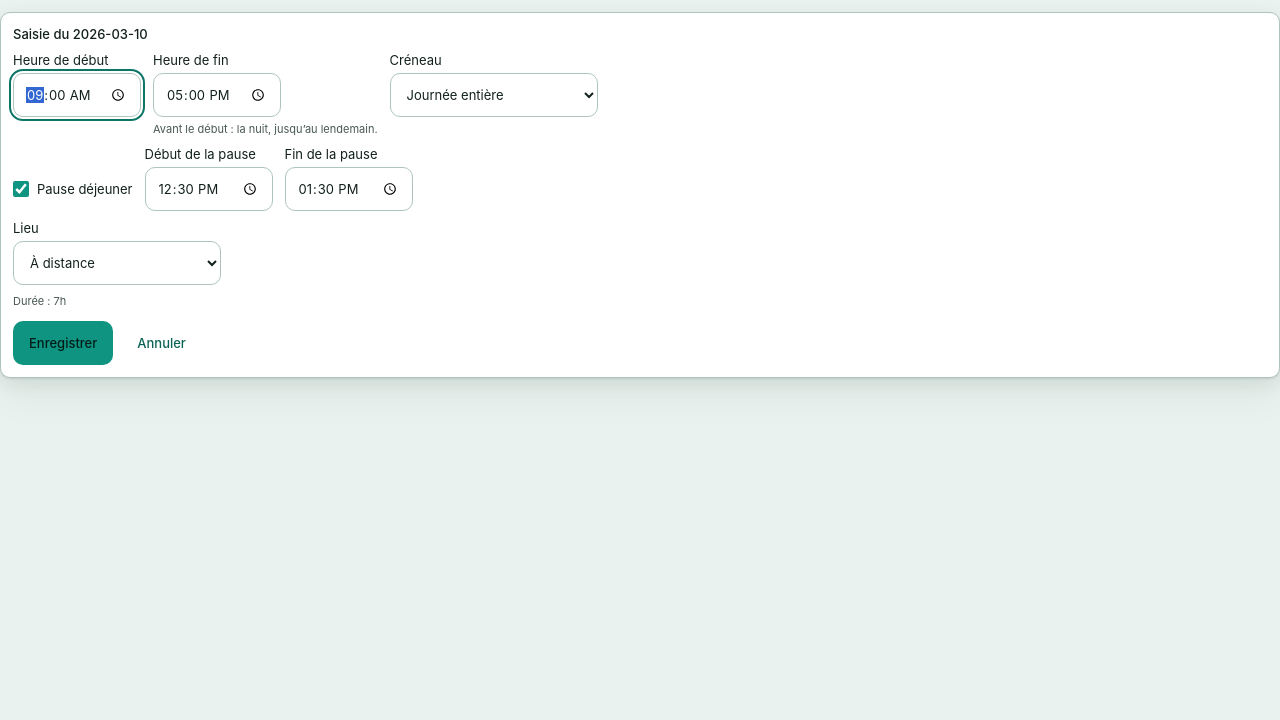
Test: CellForm — pause déjeuner › compte la pause dans la durée dès qu on la décoche
What coordinates should you click on to do the following:
click the checkbox labelled "Pause déjeuner"
I would click on:
 (21, 189)
Its box is left=13, top=181, right=29, bottom=197.
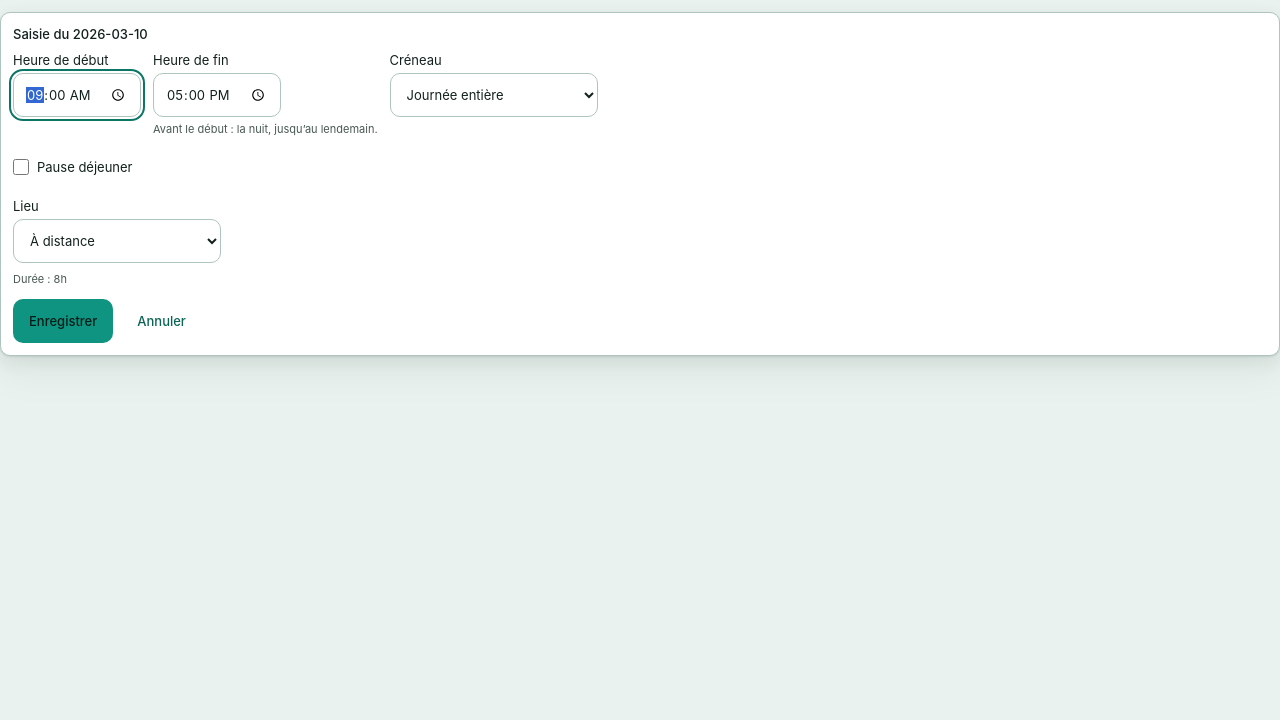
Now the message with test id "duree-calculee" shows "8h", box left=13, top=272, right=67, bottom=286
